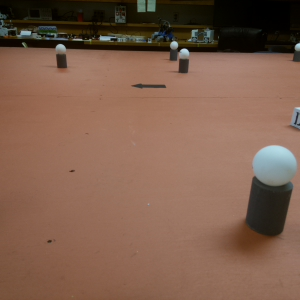obstacle: (248, 144, 295, 237), (55, 42, 66, 69), (179, 48, 189, 74), (170, 41, 178, 61), (293, 43, 300, 61)
